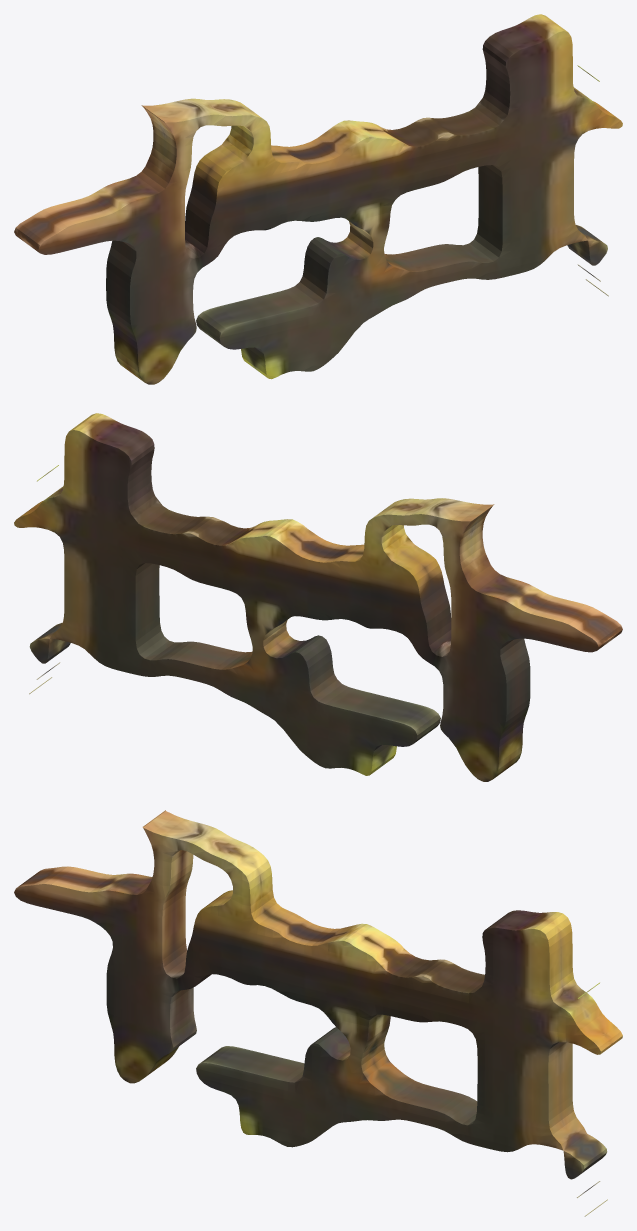
File: fence_1.glb
3 renders of one model, top to bottom at view 1: azimuth 30°, elevation 25°; view 2: azimuth 150°, elevation 25°; view 3: azimuth 330°, elevation 25°, orthographic.
Visible parts, largest first — view 1: geometry_0; view 2: geometry_0; view 3: geometry_0.
Part boxes in pixels (x1,y1,x2,y2): geometry_0: (14,14,622,384); geometry_0: (14,413,622,781); geometry_0: (14,810,622,1216).
Bounding box in the file's own units: 2.78 × 1.28 × 0.209.
1 material, 1 textured.
